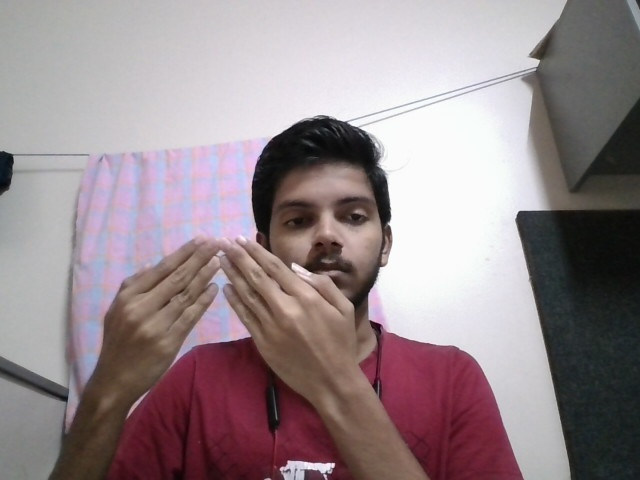Thank You: (96, 231, 363, 401)
